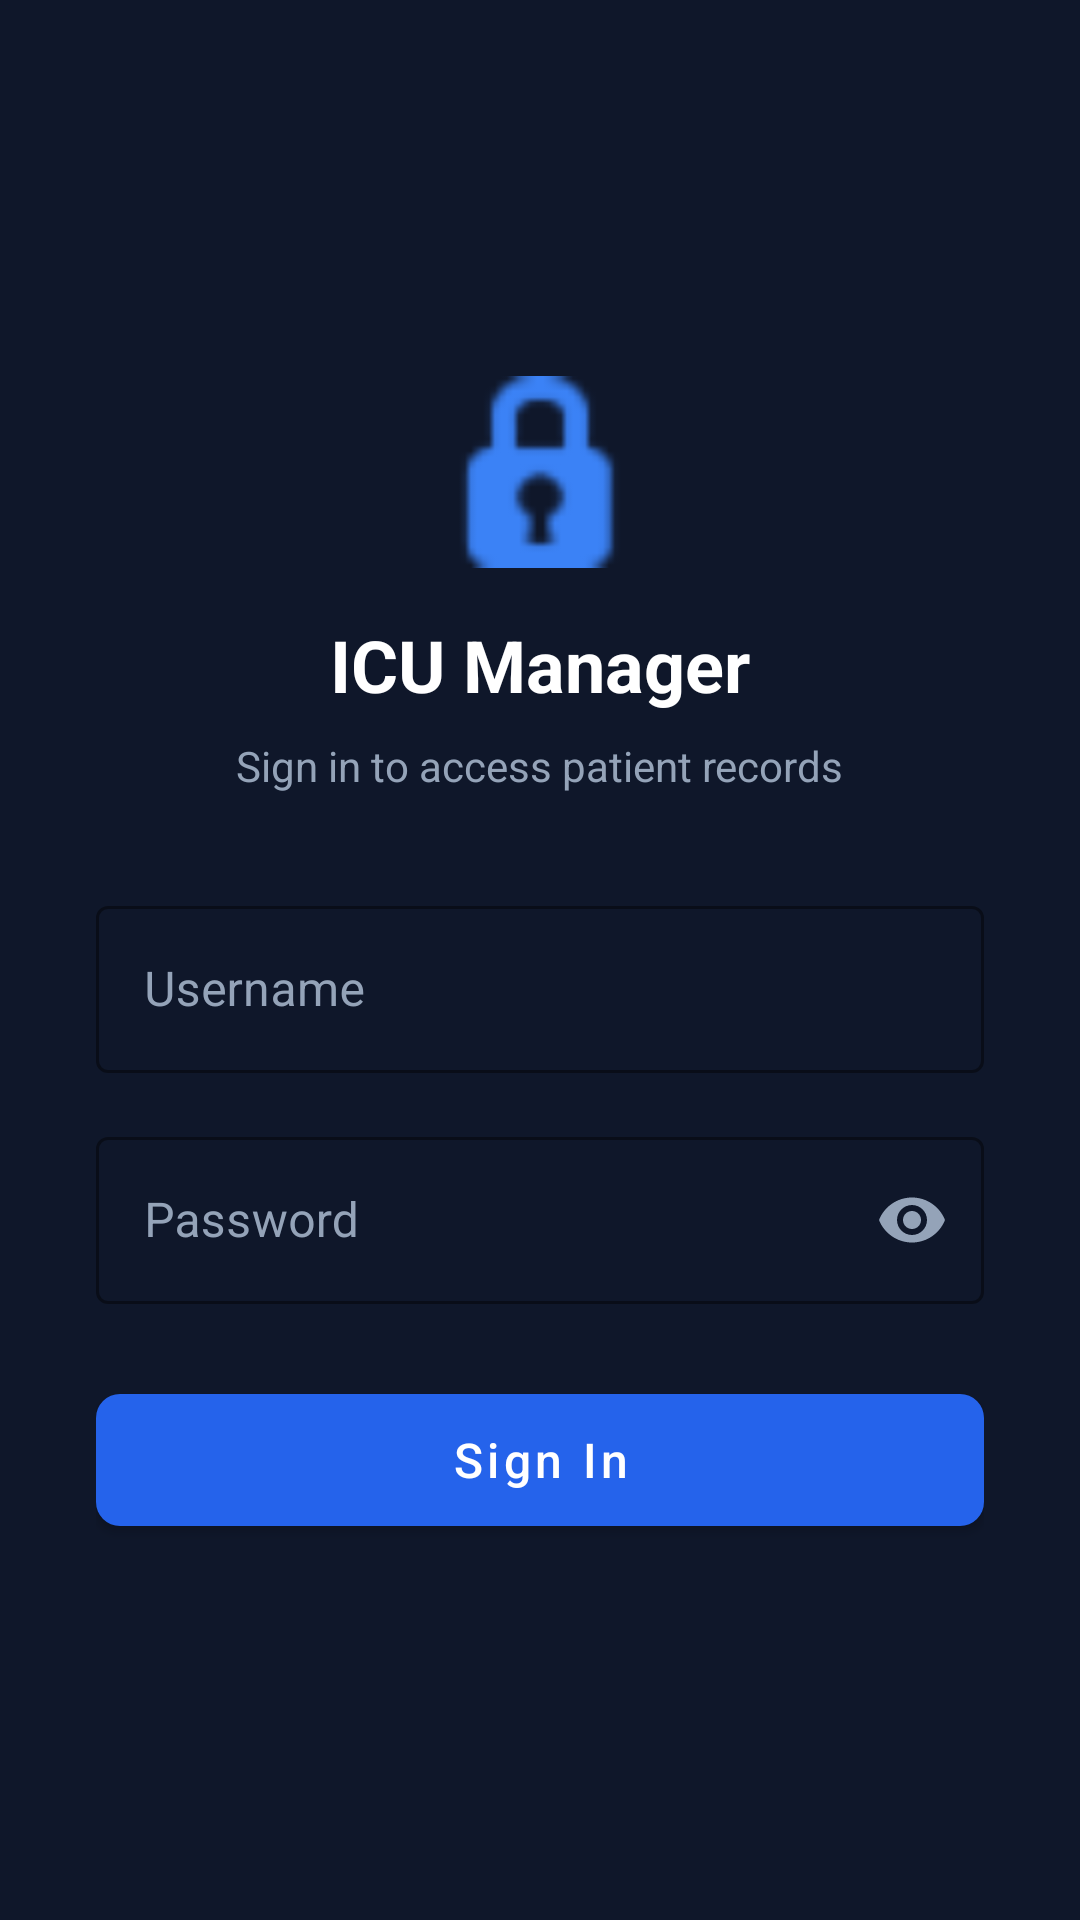

Locate icon controls on the screen. Image size 1080px x 1920px, boxes as (x1, y1, x2, y2).
secure: (464, 376, 615, 568)
